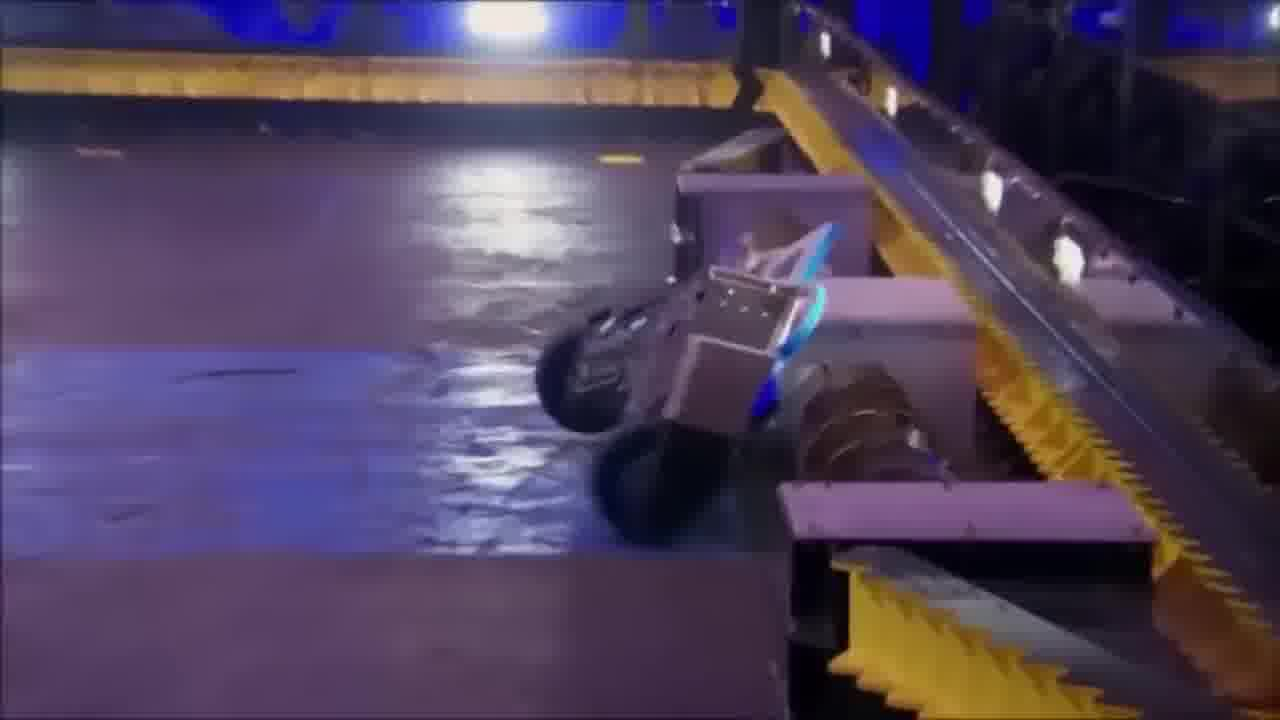combatbot: (536, 216, 835, 536)
